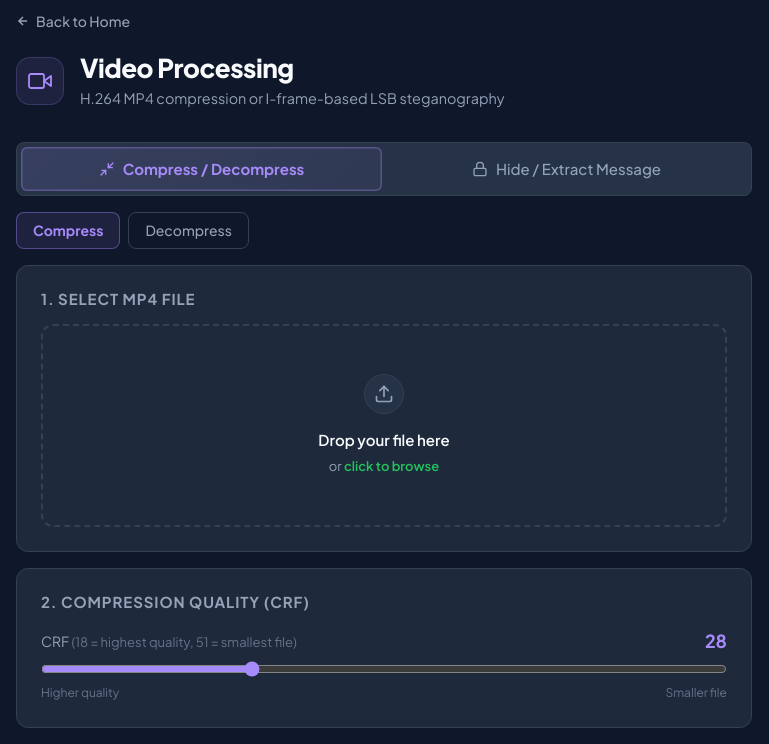
Test: VideoPage › hides CRF slider in Decompress sub-mode
The width and height of the screenshot is (769, 744).
What coordinates should you click on to do the following:
click the button "Decompress"
I would click on:
 (189, 231)
Its box is x1=128 y1=212 x2=249 y2=249.
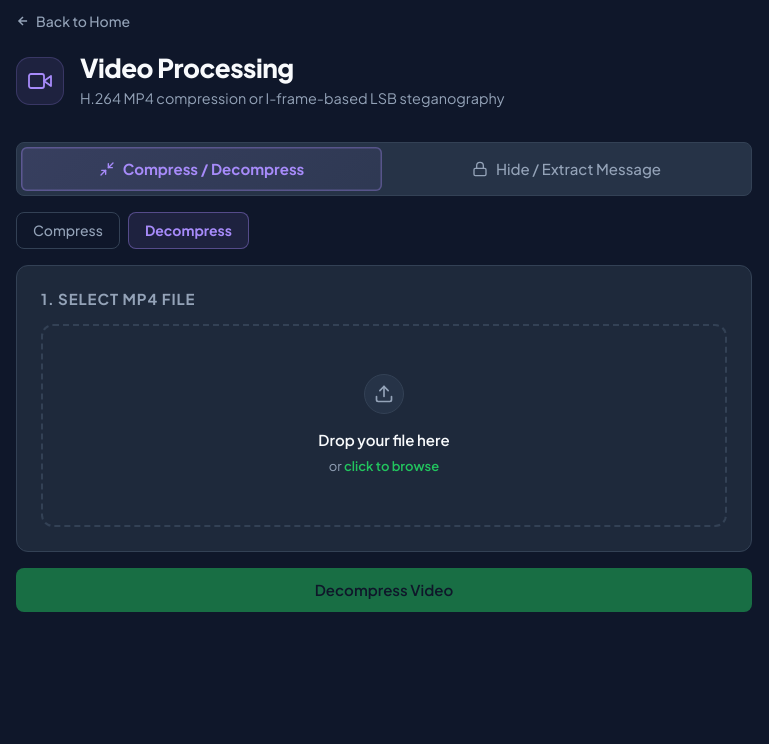
expect the slider is gone: met
